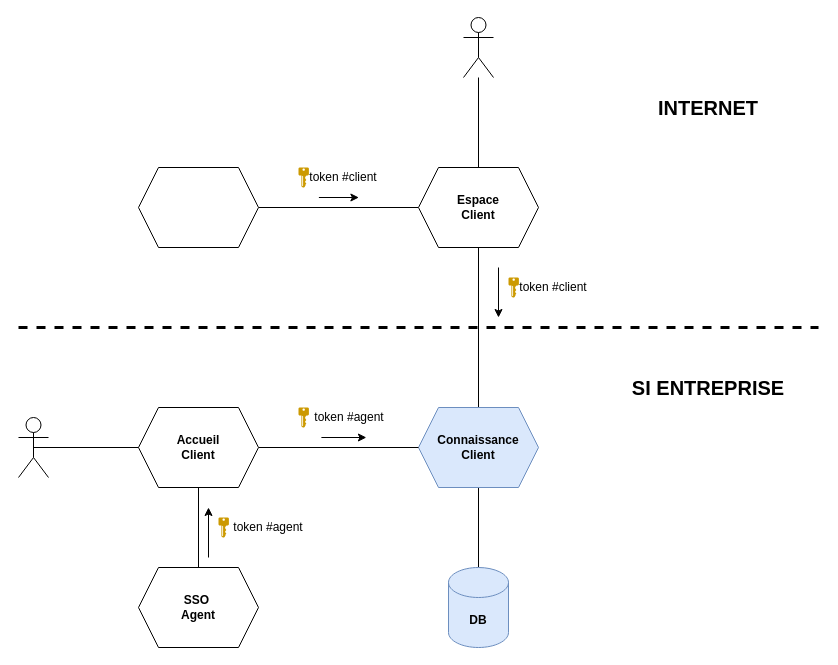
The diagram is 838 pixels wide and 665 high, and some of its shapes have lost their labels. The shapes that lost their labels are listed below. From the top down, each one's box as (x1, y1, x2, y2) in pixels, then its label:
(462, 16, 494, 78): Client
(138, 166, 258, 248): SSO Client
(18, 416, 48, 478): Agent
